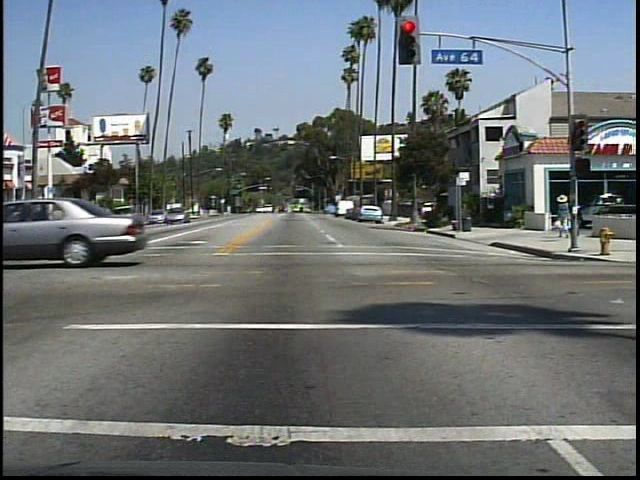person: (551, 189, 578, 242)
